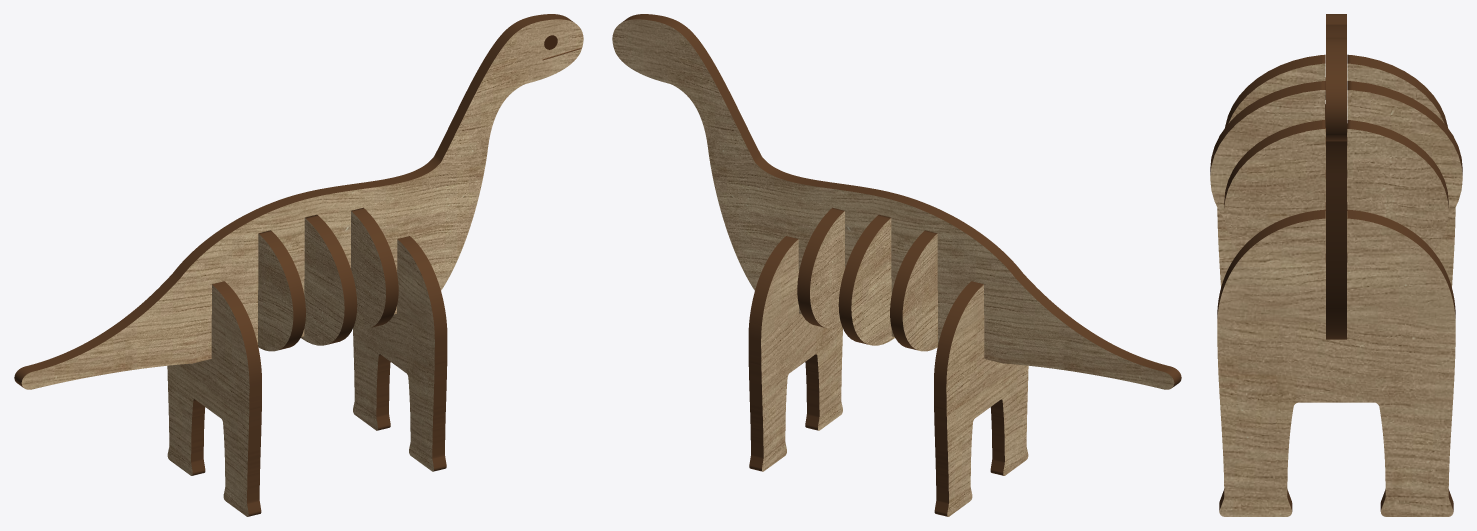
The model's file is pocket-dinosaur.glb.
The picture shows the model from 3 angles, left to right: view 1: azimuth 30°, elevation 25°; view 2: azimuth 150°, elevation 25°; view 3: azimuth 270°, elevation 25°; orthographic projection. The views are drawn at different scales.
Parts seen in each view (by area): view 1: body0, body4, body5, body2, body1, body3; view 2: body0, body4, body5, body2, body1, body3; view 3: body5, body3, body2, body0, body1, body4.
Boxes of the visible parts, bbox=[...] form: body0: bbox=[14, 14, 583, 389]; body4: bbox=[167, 281, 261, 516]; body5: bbox=[353, 236, 447, 471]; body2: bbox=[301, 214, 357, 345]; body1: bbox=[258, 230, 305, 351]; body3: bbox=[350, 207, 398, 328]; body0: bbox=[612, 14, 1181, 389]; body4: bbox=[934, 281, 1028, 516]; body5: bbox=[748, 236, 842, 471]; body2: bbox=[838, 214, 894, 345]; body1: bbox=[890, 230, 937, 351]; body3: bbox=[797, 207, 845, 328]; body5: bbox=[1217, 209, 1455, 516]; body3: bbox=[1224, 120, 1448, 253]; body2: bbox=[1210, 81, 1462, 219]; body0: bbox=[1326, 14, 1346, 339]; body1: bbox=[1225, 54, 1447, 169]; body4: bbox=[1217, 123, 1455, 286].
Size of the model in its own units: 0.1334 by 0.0884 by 0.036.
Materials: 4 (1 with a texture image).
